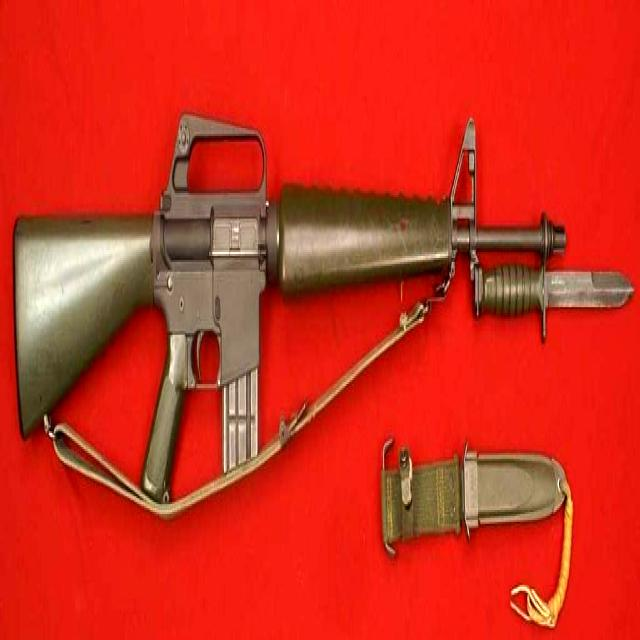m16: (6, 15, 582, 496)
